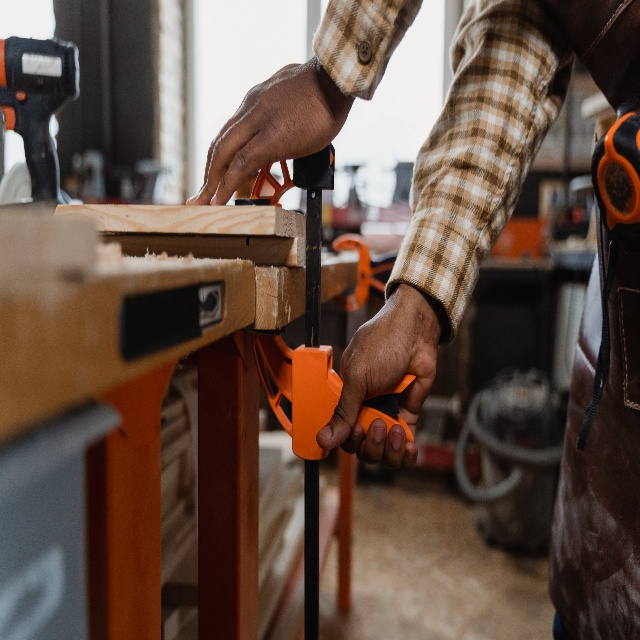Sin_guantes: (186, 56, 349, 209), (314, 299, 440, 470)
